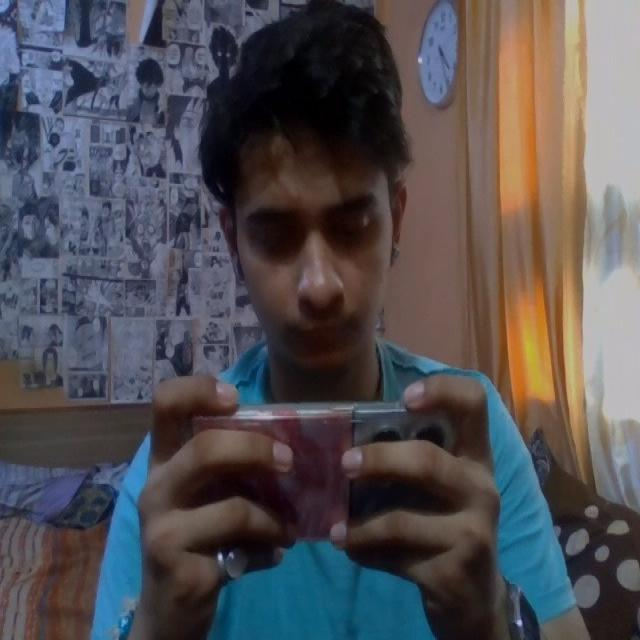phone: (186, 396, 458, 562)
using-phone: (92, 11, 592, 639)
